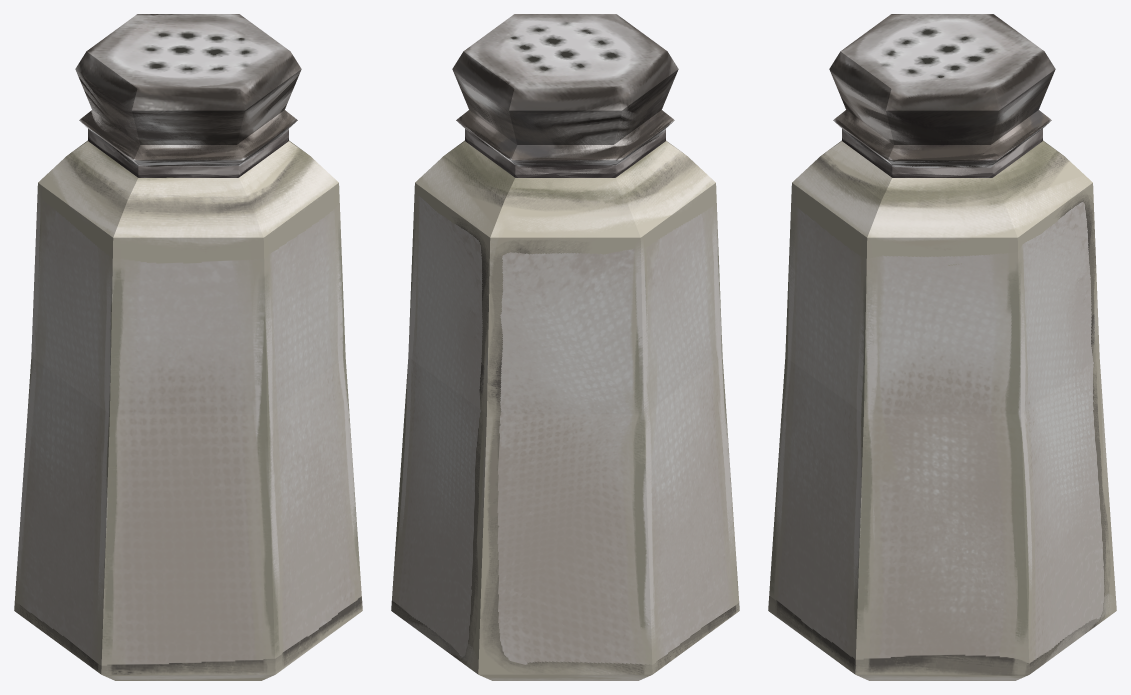
The model's file is saltshaker.fbx.
3 renders of one model, left to right at view 1: azimuth 30°, elevation 25°; view 2: azimuth 150°, elevation 25°; view 3: azimuth 270°, elevation 25°, orthographic.
Visible parts, largest first — view 1: salt shaker; view 2: salt shaker; view 3: salt shaker.
Part boxes in pixels (x1,y1,x2,y2): salt shaker: (14,14,362,680); salt shaker: (391,14,739,680); salt shaker: (768,14,1116,680).
Size of the model in its own units: 30.14 by 63.45 by 34.8.
